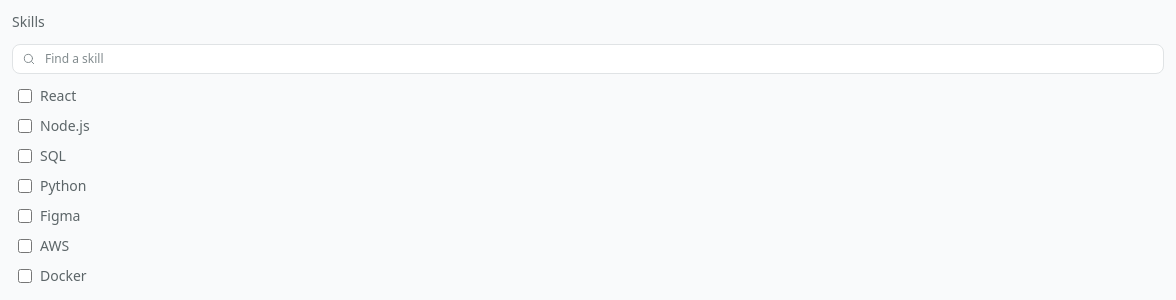
SkillFilter › says so when the search matches nothing
Type "cobol" into the search field named "Filter the skill list" at (588, 59), box [12, 44, 1164, 74]
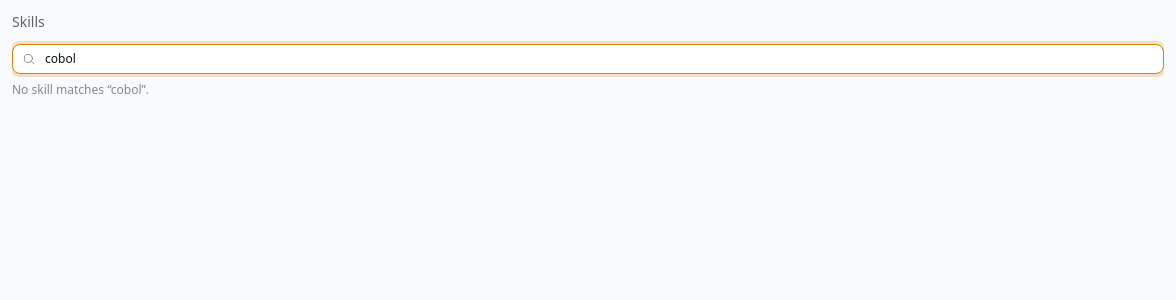
Expected: the text "No skill matches “cobol”." is shown, [12, 81, 149, 98]
